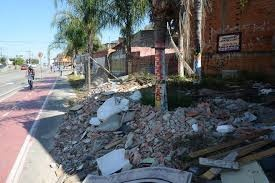rubble: (83, 77, 261, 180)
